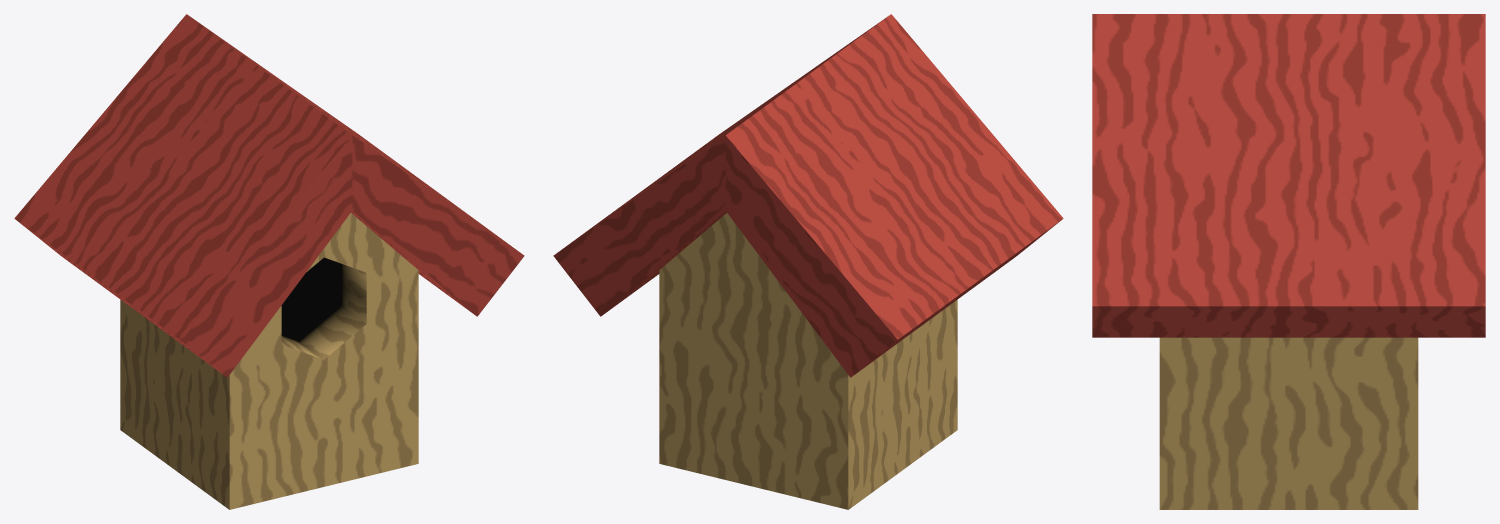
Rendered from birdnest03.fbx.
The picture shows the model from 3 angles, left to right: view 1: azimuth 30°, elevation 25°; view 2: azimuth 150°, elevation 25°; view 3: azimuth 270°, elevation 25°; orthographic projection. The views are drawn at different scales.
Parts seen in each view (by area): view 1: birdnest003; view 2: birdnest003; view 3: birdnest003.
Part boxes in pixels (bbox=[...]): birdnest003: bbox=[14, 14, 524, 509]; birdnest003: bbox=[553, 14, 1063, 509]; birdnest003: bbox=[1092, 14, 1485, 509].
Size of the model in its own units: 96.83 by 99.94 by 80.7.
